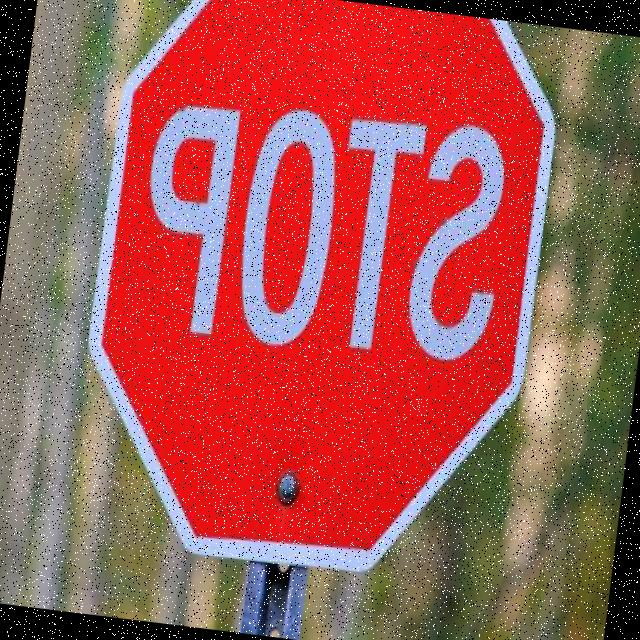stop: (57, 0, 573, 593)
